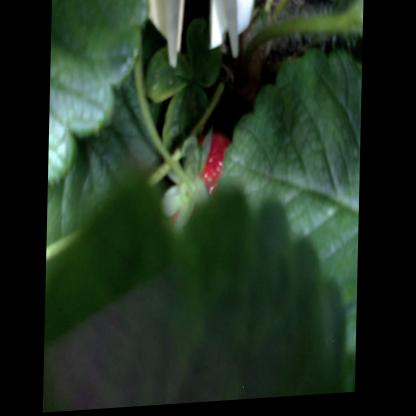ripe: (188, 131, 237, 212)
